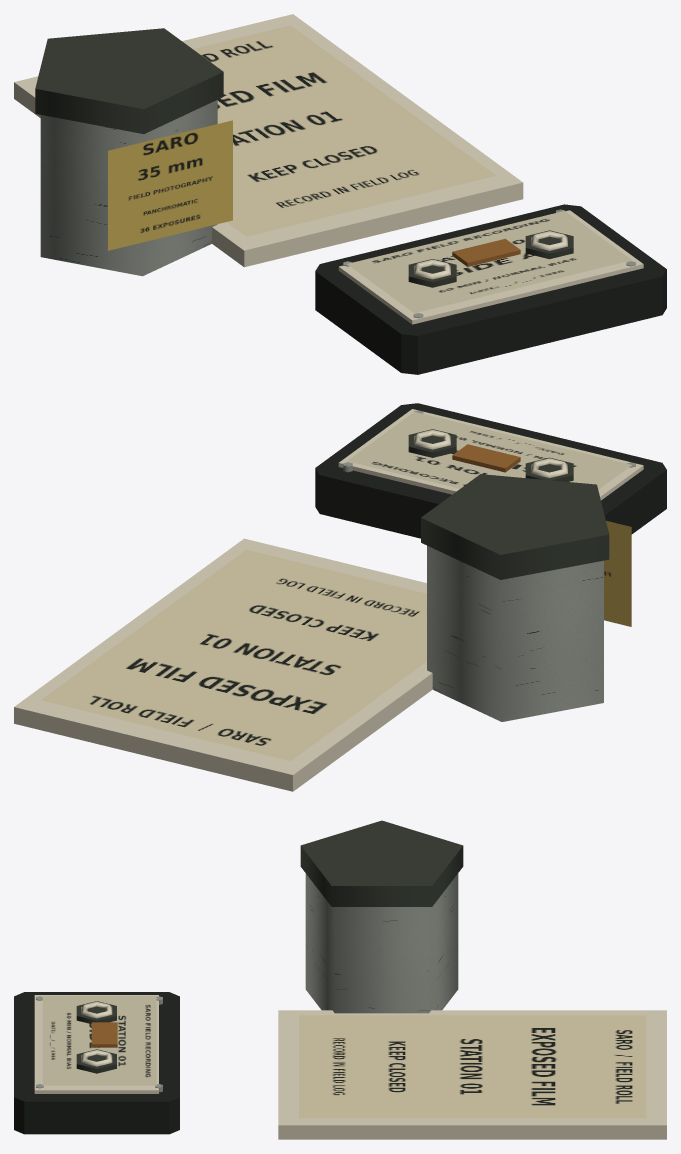
Rendered from SM_FieldKit_EvidenceProps_LOD2.fbx.
3 renders of one model, top to bottom at view 1: azimuth 30°, elevation 25°; view 2: azimuth 150°, elevation 25°; view 3: azimuth 270°, elevation 25°, orthographic. The views are drawn at different scales.
Visible parts, largest first — view 1: SM_FieldKit_EvidenceProps_LOD2; view 2: SM_FieldKit_EvidenceProps_LOD2; view 3: SM_FieldKit_EvidenceProps_LOD2.
Boxes of the visible parts, x1,y1,x2,y2 form: SM_FieldKit_EvidenceProps_LOD2: [14, 14, 666, 374]; SM_FieldKit_EvidenceProps_LOD2: [14, 403, 666, 791]; SM_FieldKit_EvidenceProps_LOD2: [14, 820, 666, 1139].
Bounding box in the file's own units: 0.1605 × 0.252 × 0.061.
